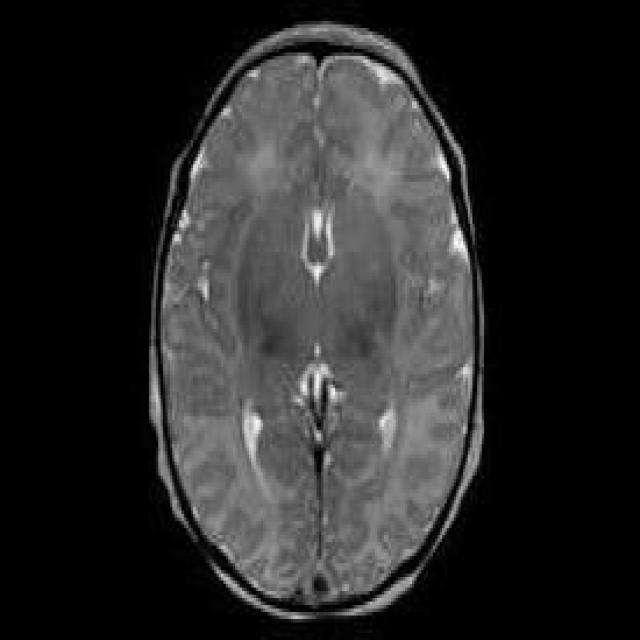notumor: (151, 21, 482, 619)
